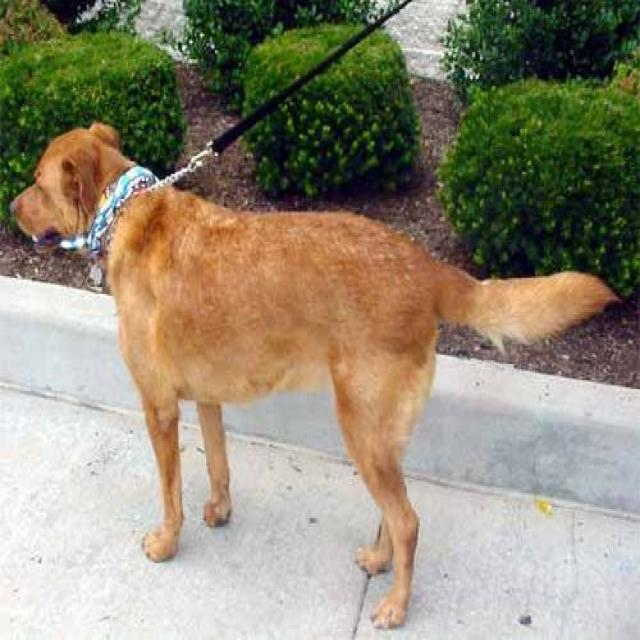dog: (8, 118, 623, 630)
